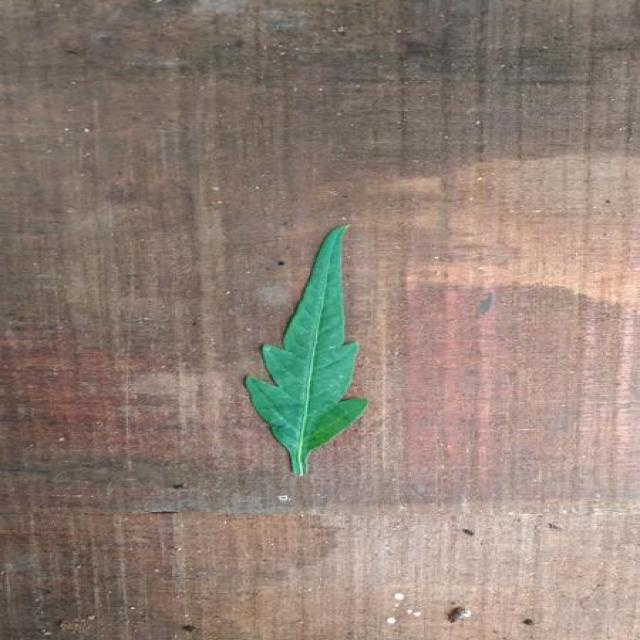balloon_Vine: (245, 225, 368, 475)
